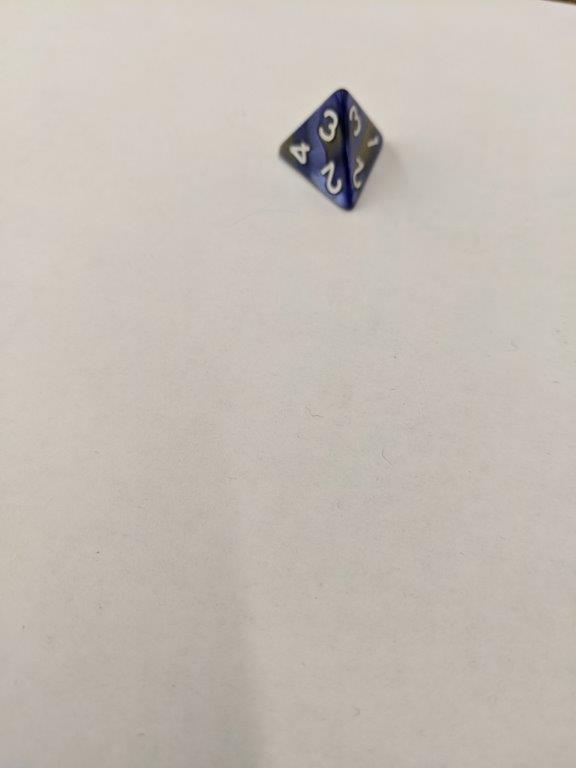d4-3: (275, 85, 387, 215)
